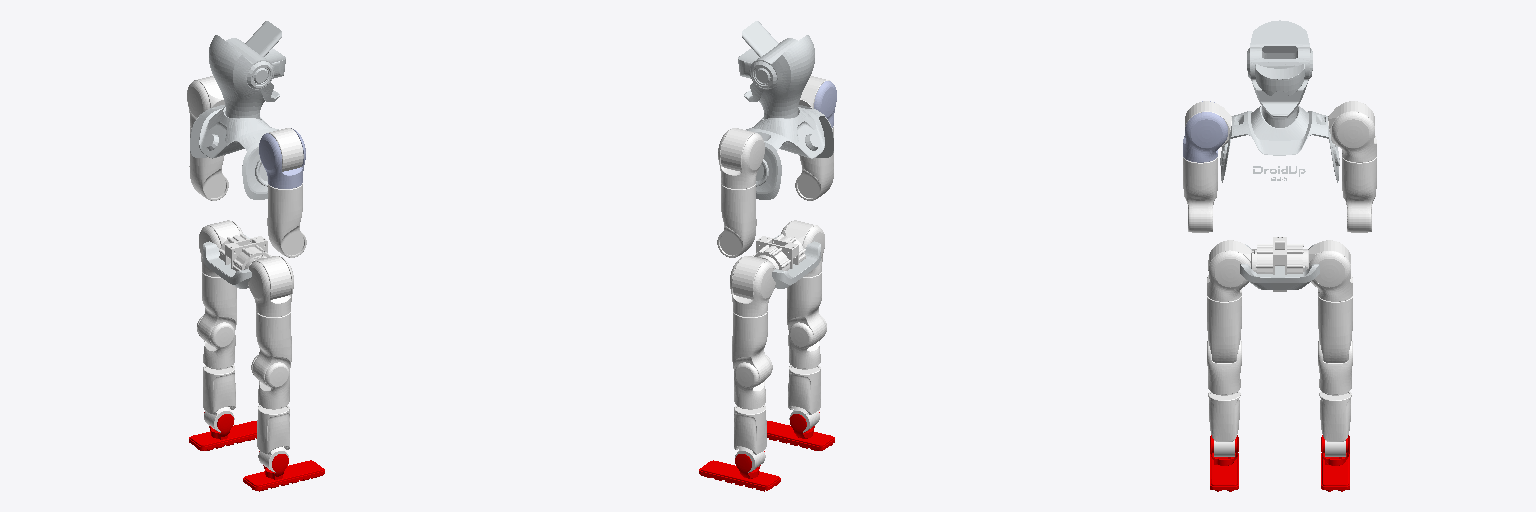
URDF robot description (E1):
<?xml version="1.0" encoding="utf-8"?>
<!-- This URDF was automatically created by SolidWorks to URDF Exporter! Originally created by [author] ([email redacted]) 
     Commit Version: 1.6.0-4-g7f85cfe  Build Version: 1.6.7995.38578
     For more information, please see http://wiki.ros.org/sw_urdf_exporter -->
<robot name="E1">
  <mujoco>
    <compiler meshdir="./meshes" discardvisual="false" />
  </mujoco>

<!--  <link name="world"></link>-->
<!--  <joint name="pelvis" type="floating">-->
<!--    <parent link="world" />-->
<!--    <child link="pelvis" />-->
<!--  </joint>-->

  <link name="pelvis">
    <inertial>
      <origin xyz="4.0687E-06 5.3734E-05 0.00063579" rpy="0 0 0" />
      <mass value="3" />
      <inertia ixx="0.00070325" ixy="-1.1729E-07" ixz="1.6967E-07" iyy="0.0013617" iyz="-2.0446E-07" izz="0.00070694" />
    </inertial>
    <visual>
      <origin xyz="0 0 0" rpy="0 0 0" />
      <geometry>
        <mesh filename="package://E1/meshes/pelvis.STL" />
      </geometry>
      <material name="">
        <color rgba="1 1 1 1" />
      </material>
    </visual>
    <collision>
      <origin xyz="0 0 0" rpy="0 0 0" />
      <geometry>
        <mesh filename="package://E1/meshes/pelvis.STL" />
      </geometry>
    </collision>
  </link>
  <link name="left_hip_pitch_link">
    <inertial>
      <origin xyz="1.3537E-07 0.054954 3.3871E-07" rpy="0 0 0" />
      <mass value="1.276" />
      <inertia ixx="0.00085075" ixy="2.3829E-09" ixz="1.9757E-09" iyy="0.00051249" iyz="5.524E-09" izz="0.00057568" />
    </inertial>
    <visual>
      <origin xyz="0 0 0" rpy="0 0 0" />
      <geometry>
        <mesh filename="package://E1/meshes/left_hip_pitch_link.STL" />
      </geometry>
      <material name="">
        <color rgba="1 1 1 1" />
      </material>
    </visual>
<!--    <collision>-->
<!--      <origin xyz="0 0 0" rpy="0 0 0" />-->
<!--      <geometry>-->
<!--        <mesh filename="package://E1/meshes/left_hip_pitch_link.STL" />-->
<!--      </geometry>-->
<!--    </collision>-->
  </link>
  <joint name="left_hip_pitch_joint" type="revolute">
    <origin xyz="0 0.064 0" rpy="0 0 0" />
    <parent link="pelvis" />
    <child link="left_hip_pitch_link" />
    <axis xyz="0 1 0" />ccfcf
    <limit lower="-2.09" upper="0.916" effort="60" velocity="180" />
  </joint>
  <link name="left_hip_roll_link">
    <inertial>
      <origin xyz="7.6686E-06 0.0079325 -0.026283" rpy="0 0 0" />
      <mass value="1.126" />
      <inertia ixx="0.0010653" ixy="-1.083E-09" ixz="-1.5613E-07" iyy="0.0011217" iyz="0.00013131" izz="0.00074295" />
    </inertial>
    <visual>
      <origin xyz="0 0 0" rpy="0 0 0" />
      <geometry>
        <mesh filename="package://E1/meshes/left_hip_roll_link.STL" />
      </geometry>
      <material name="">
        <color rgba="1 1 1 1" />
      </material>
    </visual>
<!--    <collision>-->
<!--      <origin xyz="0 0 0" rpy="0 0 0" />-->
<!--      <geometry>-->
<!--        <mesh filename="package://E1/meshes/left_hip_roll_link.STL" />-->
<!--      </geometry>-->
<!--    </collision>-->
  </link>
  <joint name="left_hip_roll_joint" type="revolute">
    <origin xyz="0 0.0585 0" rpy="0 0 0" />
    <parent link="left_hip_pitch_link" />
    <child link="left_hip_roll_link" />
    <axis xyz="1 0 0" />
    <limit lower="-0.5236" upper="1.57" effort="60" velocity="180" />
  </joint>
  <link name="left_hip_yaw_link">
    <inertial>
      <origin xyz="2.0219E-05 1.0806E-08 -0.085875" rpy="0 0 0" />
      <mass value="0.896" />
      <inertia ixx="0.0032938" ixy="3.8184E-09" ixz="-9.3406E-05" iyy="0.0033579" iyz="1.789E-09" izz="0.00087854" />
    </inertial>
    <visual>
      <origin xyz="0 0 0" rpy="0 0 0" />
      <geometry>
        <mesh filename="package://E1/meshes/left_hip_yaw_link.STL" />
      </geometry>
      <material name="">
        <color rgba="1 1 1 1" />
      </material>
    </visual>
    <collision>
      <origin xyz="0 0 0" rpy="0 0 0" />
      <geometry>
        <mesh filename="package://E1/meshes/left_hip_yaw_link.STL" />
      </geometry>
    </collision>
  </link>
  <joint name="left_hip_yaw_joint" type="revolute">
    <origin xyz="0 0.015 -0.0845" rpy="0 0 0" />
    <parent link="left_hip_roll_link" />
    <child link="left_hip_yaw_link" />
    <axis xyz="0 0 1" />
    <limit lower="-2.0944" upper="2.0944" effort="60" velocity="260" />
  </joint>
  <link name="left_knee_link">
    <inertial>
      <origin xyz="0.0099658 -3.7884E-07 -0.10091" rpy="0 0 0" />
      <mass value="0.8" />
      <inertia ixx="0.0011945" ixy="-1.4582E-08" ixz="2.5918E-05" iyy="0.0011524" iyz="8.9574E-10" izz="0.00077998" />
    </inertial>
    <visual>
      <origin xyz="0 0 0" rpy="0 0 0" />
      <geometry>
        <mesh filename="package://E1/meshes/left_knee_link.STL" />
      </geometry>
      <material name="">
        <color rgba="1 1 1 1" />
      </material>
    </visual>
<!--    <collision>-->
<!--      <origin xyz="0 0 0" rpy="0 0 0" />-->
<!--      <geometry>-->
<!--        <mesh filename="package://E1/meshes/left_knee_link.STL" />-->
<!--      </geometry>-->
<!--    </collision>-->
  </link>
  <joint name="left_knee_joint" type="revolute">
    <origin xyz="-0.01 0 -0.1605" rpy="0 0 0" />
    <parent link="left_hip_yaw_link" />
    <child link="left_knee_link" />
    <axis xyz="0 1 0" />
    <limit lower="0" upper="2.09" effort="60" velocity="260" />
  </joint>
  <link name="left_ankle_roll_link">
    <inertial>
      <origin xyz="4.1385E-08 1.9657E-08 -0.02984" rpy="0 0 0" />
      <mass value="0.5" />
      <inertia ixx="8.3199E-05" ixy="8.4014E-11" ixz="2.4895E-11" iyy="9.0659E-05" iyz="-2.9566E-10" izz="6.3387E-05" />
    </inertial>
    <visual>
      <origin xyz="0 0 0" rpy="0 0 0" />
      <geometry>
        <mesh filename="package://E1/meshes/left_ankle_roll_link.STL" />
      </geometry>
      <material name="">
        <color rgba="1 1 1 1" />
      </material>
    </visual>
    <collision>
      <origin xyz="0 0 0" rpy="0 0 0" />
      <geometry>
        <mesh filename="package://E1/meshes/left_ankle_roll_link.STL" />
      </geometry>
    </collision>
  </link>
  <joint name="left_ankle_roll_joint" type="revolute">
    <origin xyz="0.01 0 -0.21" rpy="0 0 0" />
    <parent link="left_knee_link" />
    <child link="left_ankle_roll_link" />
    <axis xyz="1 0 0" />
    <limit lower="-0.524" upper="0.524" effort="60" velocity="260" />
  </joint>
  <link name="left_ankle_pitch_link">
    <inertial>
      <origin xyz="0.021373 -0.00053753 -0.045899" rpy="0 0 0" />
      <mass value="0.8" />
      <inertia ixx="0.00016019" ixy="-4.8222E-06" ixz="5.8316E-06" iyy="0.00072674" iyz="5.8502E-07" izz="0.00083318" />
    </inertial>
    <visual>
      <origin xyz="0 0 0" rpy="0 0 0" />
      <geometry>
        <mesh filename="package://E1/meshes/left_ankle_pitch_link.STL" />
      </geometry>
      <material name="">
        <color rgba="1 0 0 1" />
      </material>
    </visual>
    <collision>
      <origin xyz="0 0 0" rpy="0 0 0" />
      <geometry>
        <mesh filename="package://E1/meshes/left_ankle_pitch_link.STL" />
      </geometry>
    </collision>
  </link>
  <joint name="left_ankle_pitch_joint" type="revolute">
    <origin xyz="0 0 -0.035" rpy="0 0 0" />
    <parent link="left_ankle_roll_link" />
    <child link="left_ankle_pitch_link" />
    <axis xyz="0 1 0" />
    <limit lower="-1.571" upper="1.571" effort="60" velocity="260" />
  </joint>
  <link name="right_hip_pitch_link">
    <inertial>
      <origin xyz="1.3544E-07 -0.054954 3.3868E-07" rpy="0 0 0" />
      <mass value="1.276" />
      <inertia ixx="0.00085075" ixy="-2.3833E-09" ixz="3.3035E-09" iyy="0.00051249" iyz="-6.3881E-09" izz="0.00057568" />
    </inertial>
    <visual>
      <origin xyz="0 0 0" rpy="0 0 0" />
      <geometry>
        <mesh filename="package://E1/meshes/right_hip_pitch_link.STL" />
      </geometry>
      <material name="">
        <color rgba="1 1 1 1" />
      </material>
    </visual>
<!--    <collision>-->
<!--      <origin xyz="0 0 0" rpy="0 0 0" />-->
<!--      <geometry>-->
<!--        <mesh filename="package://E1/meshes/right_hip_pitch_link.STL" />-->
<!--      </geometry>-->
<!--    </collision>-->
  </link>
  <joint name="right_hip_pitch_joint" type="revolute">
    <origin xyz="0 -0.064 0" rpy="0 0 0" />
    <parent link="pelvis" />
    <child link="right_hip_pitch_link" />
    <axis xyz="0 1 0" />
    <limit lower="-2.09" upper="0.916" effort="60" velocity="180" />
  </joint>
  <link name="right_hip_roll_link">
    <inertial>
      <origin xyz="7.1644E-06 -0.0079301 -0.026283" rpy="0 0 0" />
      <mass value="1.126" />
      <inertia ixx="0.0010653" ixy="-7.5606E-08" ixz="-1.3311E-07" iyy="0.0011216" iyz="-0.00013147" izz="0.00074306" />
    </inertial>
    <visual>
      <origin xyz="0 0 0" rpy="0 0 0" />
      <geometry>
        <mesh filename="package://E1/meshes/right_hip_roll_link.STL" />
      </geometry>
      <material name="">
        <color rgba="1 1 1 1" />
      </material>
    </visual>
<!--    <collision>-->
<!--      <origin xyz="0 0 0" rpy="0 0 0" />-->
<!--      <geometry>-->
<!--        <mesh filename="package://E1/meshes/right_hip_roll_link.STL" />-->
<!--      </geometry>-->
<!--    </collision>-->
  </link>
  <joint name="right_hip_roll_joint" type="revolute">
    <origin xyz="0 -0.0585 0" rpy="0 0 0" />
    <parent link="right_hip_pitch_link" />
    <child link="right_hip_roll_link" />
    <axis xyz="1 0 0" />
    <limit lower="-1.57" upper="0.5236" effort="60" velocity="180" />
  </joint>
  <link name="right_hip_yaw_link">
    <inertial>
      <origin xyz="2.0226E-05 -9.8286E-11 -0.085875" rpy="0 0 0" />
      <mass value="0.896" />
      <inertia ixx="0.0032938" ixy="3.6551E-09" ixz="-9.3406E-05" iyy="0.0033579" iyz="1.3409E-09" izz="0.00087854" />
    </inertial>
    <visual>
      <origin xyz="0 0 0" rpy="0 0 0" />
      <geometry>
        <mesh filename="package://E1/meshes/right_hip_yaw_link.STL" />
      </geometry>
      <material name="">
        <color rgba="1 1 1 1" />
      </material>
    </visual>
    <collision>
      <origin xyz="0 0 0" rpy="0 0 0" />
      <geometry>
        <mesh filename="package://E1/meshes/right_hip_yaw_link.STL" />
      </geometry>
    </collision>
  </link>
  <joint name="right_hip_yaw_joint" type="revolute">
    <origin xyz="0 -0.015 -0.0845" rpy="0 0 0" />
    <parent link="right_hip_roll_link" />
    <child link="right_hip_yaw_link" />
    <axis xyz="0 0 1" />
    <limit lower="-2.0944" upper="2.0944" effort="60" velocity="260" />
  </joint>
  <link name="right_knee_link">
    <inertial>
      <origin xyz="0.009966 3.3622E-07 -0.10091" rpy="0 0 0" />
      <mass value="0.8" />
      <inertia ixx="0.0011944" ixy="-1.3149E-08" ixz="2.5911E-05" iyy="0.0011524" iyz="-1.4748E-08" izz="0.00077995" />
    </inertial>
    <visual>
      <origin xyz="0 0 0" rpy="0 0 0" />
      <geometry>
        <mesh filename="package://E1/meshes/right_knee_link.STL" />
      </geometry>
      <material name="">
        <color rgba="1 1 1 1" />
      </material>
    </visual>
<!--    <collision>-->
<!--      <origin xyz="0 0 0" rpy="0 0 0" />-->
<!--      <geometry>-->
<!--        <mesh filename="package://E1/meshes/right_knee_link.STL" />-->
<!--      </geometry>-->
<!--    </collision>-->
  </link>
  <joint name="right_knee_joint" type="revolute">
    <origin xyz="-0.01 0 -0.1605" rpy="0 0 0" />
    <parent link="right_hip_yaw_link" />
    <child link="right_knee_link" />
    <axis xyz="0 1 0" />
    <limit lower="0" upper="2.09" effort="60" velocity="260" />
  </joint>
  <link name="right_ankle_roll_link">
    <inertial>
      <origin xyz="-2.3106E-08 -2.837E-09 -0.02984" rpy="0 0 0" />
      <mass value="0.5" />
      <inertia ixx="8.3199E-05" ixy="8.6658E-11" ixz="-7.9748E-11" iyy="9.0659E-05" iyz="2.4101E-10" izz="6.3387E-05" />
    </inertial>
    <visual>
      <origin xyz="0 0 0" rpy="0 0 0" />
      <geometry>
        <mesh filename="package://E1/meshes/right_ankle_roll_link.STL" />
      </geometry>
      <material name="">
        <color rgba="1 1 1 1" />
      </material>
    </visual>
    <collision>
      <origin xyz="0 0 0" rpy="0 0 0" />
      <geometry>
        <mesh filename="package://E1/meshes/right_ankle_roll_link.STL" />
      </geometry>
    </collision>
  </link>
  <joint name="right_ankle_roll_joint" type="revolute">
    <origin xyz="0.01 0 -0.21" rpy="0 0 0" />
    <parent link="right_knee_link" />
    <child link="right_ankle_roll_link" />
    <axis xyz="1 0 0" />
    <limit lower="-0.524" upper="0.524" effort="60" velocity="260" />
  </joint>
  <link name="right_ankle_pitch_link">
    <inertial>
      <origin xyz="0.021373 -0.00053751 -0.0459" rpy="0 0 0" />
      <mass value="0.8" />
      <inertia ixx="0.00016018" ixy="-4.8224E-06" ixz="5.8317E-06" iyy="0.00072674" iyz="5.8488E-07" izz="0.00083318" />
    </inertial>
    <visual>
      <origin xyz="0 0 0" rpy="0 0 0" />
      <geometry>
        <mesh filename="package://E1/meshes/right_ankle_pitch_link.STL" />
      </geometry>
      <material name="">
        <color rgba="1 0 0 1" />
      </material>
    </visual>
    <collision>
      <origin xyz="0 0 0" rpy="0 0 0" />
      <geometry>
        <mesh filename="package://E1/meshes/right_ankle_pitch_link.STL" />
      </geometry>
    </collision>
  </link>
  <joint name="right_ankle_pitch_joint" type="revolute">
    <origin xyz="0 0 -0.035" rpy="0 0 0" />
    <parent link="right_ankle_roll_link" />
    <child link="right_ankle_pitch_link" />
    <axis xyz="0 1 0" />
    <limit lower="-1.571" upper="1.571" effort="60" velocity="260" />
  </joint>
  <link name="torso_link">
    <inertial>
      <origin xyz="0.00062403 -9.6558E-05 0.23108" rpy="0 0 0" />
      <mass value="6" />
      <inertia ixx="0.025155" ixy="-5.8296E-06" ixz="-8.4229E-06" iyy="0.016563" iyz="-1.7325E-05" izz="0.012781" />
    </inertial>
    <visual>
      <origin xyz="0 0 0" rpy="0 0 0" />
      <geometry>
        <mesh filename="package://E1/meshes/torso_link.STL" />
      </geometry>
      <material name="">
        <color rgba="0.89804 0.91765 0.92941 1" />
      </material>
    </visual>
    <collision>
      <origin xyz="0 0 0" rpy="0 0 0" />
      <geometry>
        <mesh filename="package://E1/meshes/torso_link.STL" />
      </geometry>
    </collision>
  </link>
  <joint name="torso_joint" type="fixed">
    <origin xyz="0 0 0" rpy="0 0 0" />
    <parent link="pelvis" />
    <child link="torso_link" />
    <axis xyz="0 0 0" />
  </joint>
  <link name="left_shoulder_pitch_link">
    <inertial>
      <origin xyz="-1.3389E-07 0.04243 3.4635E-07" rpy="0 0 0" />
      <mass value="1.276" />
      <inertia ixx="0.00085075" ixy="-2.3623E-09" ixz="-3.2803E-09" iyy="0.00051249" iyz="6.55E-09" izz="0.00057568" />
    </inertial>
    <visual>
      <origin xyz="0 0 0" rpy="0 0 0" />
      <geometry>
        <mesh filename="package://E1/meshes/left_shoulder_pitch_link.STL" />
      </geometry>
      <material name="">
        <color rgba="1 1 1 1" />
      </material>
    </visual>
    <collision>
      <origin xyz="0 0 0" rpy="0 0 0" />
      <geometry>
        <mesh filename="package://E1/meshes/left_shoulder_pitch_link.STL" />
      </geometry>
    </collision>
  </link>
  <joint name="left_shoulder_pitch_joint" type="fixed">
    <origin xyz="0 0.13613 0.37182" rpy="0.17453 0 0" />
    <parent link="torso_link" />
    <child link="left_shoulder_pitch_link" />
    <axis xyz="0 1 0" />
    <limit lower="-4.058" upper="0.916" effort="60" velocity="180" />
  </joint>
  <link name="left_shoulder_roll_link">
    <inertial>
      <origin xyz="-7.1644E-06 0.0079301 -0.026283" rpy="0 0 0" />
      <mass value="1.126" />
      <inertia ixx="0.0010653" ixy="-7.5606E-08" ixz="1.3311E-07" iyy="0.0011216" iyz="0.00013147" izz="0.00074306" />
    </inertial>
    <visual>
      <origin xyz="0 0 0" rpy="0 0 0" />
      <geometry>
        <mesh filename="package://E1/meshes/left_shoulder_roll_link.STL" />
      </geometry>
      <material name="">
        <color rgba="1 1 1 1" />
      </material>
    </visual>
    <collision>
      <origin xyz="0 0 0" rpy="0 0 0" />
      <geometry>
        <mesh filename="package://E1/meshes/left_shoulder_roll_link.STL" />
      </geometry>
    </collision>
  </link>
  <joint name="left_shoulder_roll_joint" type="fixed">
    <origin xyz="0 0.045976 0" rpy="-0.17453 0 0" />
    <parent link="left_shoulder_pitch_link" />
    <child link="left_shoulder_roll_link" />
    <axis xyz="1 0 0" />
    <limit lower="0" upper="3.1416" effort="60" velocity="180" />
  </joint>
  <link name="left_shoulder_yaw_link">
    <inertial>
      <origin xyz="-2.0226E-05 9.8286E-11 -0.085875" rpy="0 0 0" />
      <mass value="0.896" />
      <inertia ixx="0.0032938" ixy="3.6551E-09" ixz="9.3406E-05" iyy="0.0033579" iyz="-1.3409E-09" izz="0.00087854" />
    </inertial>
    <visual>
      <origin xyz="0 0 0" rpy="0 0 0" />
      <geometry>
        <mesh filename="package://E1/meshes/left_shoulder_yaw_link.STL" />
      </geometry>
      <material name="">
        <color rgba="1 1 1 1" />
      </material>
    </visual>
    <collision>
      <origin xyz="0 0 0" rpy="0 0 0" />
      <geometry>
        <mesh filename="package://E1/meshes/left_shoulder_yaw_link.STL" />
      </geometry>
    </collision>
  </link>
  <joint name="left_shoulder_yaw_joint" type="fixed">
    <origin xyz="0 0.015 -0.0845" rpy="0 0 0" />
    <parent link="left_shoulder_roll_link" />
    <child link="left_shoulder_yaw_link" />
    <axis xyz="0 0 1" />
    <limit lower="-2.0944" upper="2.0944" effort="5" velocity="260" />
  </joint>
  <!-- <link name="left_elbow_link">
    <inertial>
      <origin xyz="0.043916 -7.1829E-07 -0.0099307" rpy="0 0 0" />
      <mass value="0.576" />
      <inertia ixx="0.00040084" ixy="-1.4209E-08" ixz="2.5911E-05" iyy="0.000592" iyz="-1.3604E-08" izz="0.00066294" />
    </inertial>
    <visual>
      <origin xyz="0 0 0" rpy="0 0 0" />
      <geometry>
        <mesh filename="package://E1/meshes/left_elbow_link.STL" />
      </geometry>
      <material name="">
        <color rgba="1 1 1 1" />
      </material>
    </visual>
    <collision>
      <origin xyz="0 0 0" rpy="0 0 0" />
      <geometry>
        <mesh filename="package://E1/meshes/left_elbow_link.STL" />
      </geometry>
    </collision>
  </link>
  <joint name="left_elbow_joint" type="revolute">
    <origin xyz="0.01 0 -0.1605" rpy="0 0 0" />
    <parent link="left_shoulder_yaw_link" />
    <child link="left_elbow_link" />
    <axis xyz="0 1 0" />
    <limit lower="-1.05" upper="2.09" effort="5" velocity="260" />
  </joint> -->
  <link name="right_shoulder_pitch_link">
    <inertial>
      <origin xyz="-1.349E-07 -0.042411 3.364E-07" rpy="0 0 0" />
      <mass value="1.276" />
      <inertia ixx="0.00085075" ixy="2.3766E-09" ixz="-1.9893E-09" iyy="0.00051249" iyz="-5.4806E-09" izz="0.00057568" />
    </inertial>
    <visual>
      <origin xyz="0 0 0" rpy="0 0 0" />
      <geometry>
        <mesh filename="package://E1/meshes/right_shoulder_pitch_link.STL" />
      </geometry>
      <material name="">
        <color rgba="1 1 1 1" />
      </material>
    </visual>
    <collision>
      <origin xyz="0 0 0" rpy="0 0 0" />
      <geometry>
        <mesh filename="package://E1/meshes/right_shoulder_pitch_link.STL" />
      </geometry>
    </collision>
  </link>
  <joint name="right_shoulder_pitch_joint" type="fixed">
    <origin xyz="0 -0.13615 0.37182" rpy="-0.17453 0 0" />
    <parent link="torso_link" />
    <child link="right_shoulder_pitch_link" />
    <axis xyz="0 1 0" />
    <limit lower="-4.058" upper="0.916" effort="60" velocity="180" />
  </joint>
  <link name="right_shoulder_roll_link">
    <inertial>
      <origin xyz="-7.6681E-06 -0.0079325 -0.026283" rpy="0 0 0" />
      <mass value="1.126" />
      <inertia ixx="0.0010653" ixy="-1.0914E-09" ixz="1.5613E-07" iyy="0.0011217" iyz="-0.00013131" izz="0.00074295" />
    </inertial>
    <visual>
      <origin xyz="0 0 0" rpy="0 0 0" />
      <geometry>
        <mesh filename="package://E1/meshes/right_shoulder_roll_link.STL" />
      </geometry>
      <material name="">
        <color rgba="0.79216 0.81961 0.93333 1" />
      </material>
    </visual>
    <collision>
      <origin xyz="0 0 0" rpy="0 0 0" />
      <geometry>
        <mesh filename="package://E1/meshes/right_shoulder_roll_link.STL" />
      </geometry>
    </collision>
  </link>
  <joint name="right_shoulder_roll_joint" type="fixed">
    <origin xyz="0 -0.045957 0" rpy="0.17453 0 0" />
    <parent link="right_shoulder_pitch_link" />
    <child link="right_shoulder_roll_link" />
    <axis xyz="1 0 0" />
    <limit lower="-3.1416" upper="0" effort="60" velocity="180" />
  </joint>
  <link name="right_shoulder_yaw_link">
    <inertial>
      <origin xyz="-2.0219E-05 -1.0806E-08 -0.085875" rpy="0 0 0" />
      <mass value="0.896" />
      <inertia ixx="0.0032938" ixy="3.8184E-09" ixz="9.3406E-05" iyy="0.0033579" iyz="-1.789E-09" izz="0.00087854" />
    </inertial>
    <visual>
      <origin xyz="0 0 0" rpy="0 0 0" />
      <geometry>
        <mesh filename="package://E1/meshes/right_shoulder_yaw_link.STL" />
      </geometry>
      <material name="">
        <color rgba="1 1 1 1" />
      </material>
    </visual>
    <collision>
      <origin xyz="0 0 0" rpy="0 0 0" />
      <geometry>
        <mesh filename="package://E1/meshes/right_shoulder_yaw_link.STL" />
      </geometry>
    </collision>
  </link>
  <joint name="right_shoulder_yaw_joint" type="fixed">
    <origin xyz="0 -0.015 -0.0845" rpy="0 0 0" />
    <parent link="right_shoulder_roll_link" />
    <child link="right_shoulder_yaw_link" />
    <axis xyz="0 0 1" />
    <limit lower="-2.0944" upper="2.0944" effort="5" velocity="260" />
  </joint>
  <!-- <link name="right_elbow_link">
    <inertial>
      <origin xyz="0.043914 7.7067E-07 -0.0099301" rpy="0 0 0" />
      <mass value="0.576" />
      <inertia ixx="0.00040088" ixy="1.0262E-09" ixz="2.5917E-05" iyy="0.00059201" iyz="-1.567E-08" izz="0.00066299" />
    </inertial>
    <visual>
      <origin xyz="0 0 0" rpy="0 0 0" />
      <geometry>
        <mesh filename="package://E1/meshes/right_elbow_link.STL" />
      </geometry>
      <material name="">
        <color rgba="1 1 1 1" />
      </material>
    </visual>
    <collision>
      <origin xyz="0 0 0" rpy="0 0 0" />
      <geometry>
        <mesh filename="package://E1/meshes/right_elbow_link.STL" />
      </geometry>
    </collision>
  </link>
  <joint name="right_elbow_joint" type="revolute">
    <origin xyz="0.01 0 -0.1605" rpy="0 0 0" />
    <parent link="right_shoulder_yaw_link" />
    <child link="right_elbow_link" />
    <axis xyz="0 1 0" />
    <limit lower="-1.05" upper="2.09" effort="5" velocity="260" />
  </joint> -->
</robot>

--- What the picture shows (computed from the rendered views, not written in the file) ---
3 views of the same robot in one strip: view 1: azimuth 30°, elevation 25°; view 2: azimuth 150°, elevation 25°; view 3: azimuth 270°, elevation 25° (orthographic).
Robot: E1 — 20 links, 19 joints (12 revolute, 7 fixed); root link pelvis; default pose: all joints at 0.
Visible links, largest first — view 1: torso_link, right_knee_link, left_knee_link, right_shoulder_yaw_link, right_hip_yaw_link, left_hip_yaw_link, right_ankle_pitch_link, right_shoulder_roll_link, left_ankle_pitch_link, left_shoulder_yaw_link, right_hip_roll_link, pelvis (+3 smaller); view 2: torso_link, left_knee_link, right_knee_link, left_shoulder_yaw_link, left_hip_yaw_link, right_hip_yaw_link, left_ankle_pitch_link, left_shoulder_roll_link, right_ankle_pitch_link, right_shoulder_yaw_link, left_hip_roll_link, pelvis (+3 smaller); view 3: torso_link, left_knee_link, right_knee_link, left_shoulder_yaw_link, right_shoulder_yaw_link, left_hip_yaw_link, right_hip_yaw_link, left_shoulder_roll_link, right_shoulder_roll_link, pelvis, left_hip_roll_link, right_hip_roll_link (+4 smaller).
Link boxes in pixels (left/top/right/bottom): torso_link: left=190, top=21, right=285, bottom=288; right_knee_link: left=251, top=355, right=289, bottom=454; left_knee_link: left=197, top=315, right=235, bottom=414; right_shoulder_yaw_link: left=267, top=183, right=306, bottom=257; right_hip_yaw_link: left=252, top=311, right=291, bottom=386; left_hip_yaw_link: left=198, top=272, right=236, bottom=346; right_ankle_pitch_link: left=243, top=451, right=324, bottom=491; right_shoulder_roll_link: left=259, top=128, right=305, bottom=188; left_ankle_pitch_link: left=189, top=412, right=256, bottom=450; left_shoulder_yaw_link: left=189, top=126, right=228, bottom=200; right_hip_roll_link: left=248, top=256, right=293, bottom=316; pelvis: left=219, top=234, right=271, bottom=271; torso_link: left=738, top=21, right=833, bottom=288; left_knee_link: left=734, top=355, right=772, bottom=454; right_knee_link: left=788, top=315, right=826, bottom=414; left_shoulder_yaw_link: left=717, top=183, right=756, bottom=257; left_hip_yaw_link: left=732, top=311, right=771, bottom=386; right_hip_yaw_link: left=787, top=272, right=825, bottom=346; left_ankle_pitch_link: left=699, top=451, right=780, bottom=491; left_shoulder_roll_link: left=718, top=128, right=764, bottom=188; right_ankle_pitch_link: left=767, top=412, right=834, bottom=450; right_shoulder_yaw_link: left=795, top=126, right=833, bottom=200; left_hip_roll_link: left=730, top=256, right=775, bottom=316; pelvis: left=752, top=234, right=805, bottom=270; torso_link: left=1220, top=20, right=1339, bottom=289; left_knee_link: left=1318, top=340, right=1352, bottom=441; right_knee_link: left=1207, top=340, right=1241, bottom=441; left_shoulder_yaw_link: left=1342, top=157, right=1376, bottom=232; right_shoulder_yaw_link: left=1183, top=157, right=1217, bottom=232; left_hip_yaw_link: left=1318, top=296, right=1352, bottom=362; right_hip_yaw_link: left=1207, top=296, right=1241, bottom=362; left_shoulder_roll_link: left=1332, top=101, right=1376, bottom=162; right_shoulder_roll_link: left=1183, top=101, right=1227, bottom=162; pelvis: left=1251, top=237, right=1308, bottom=291; left_hip_roll_link: left=1309, top=240, right=1352, bottom=301; right_hip_roll_link: left=1207, top=240, right=1250, bottom=301.
Size in the robot's own frame: 0.2532 by 0.4808 by 1.19 metres.
20 mesh visuals loaded from 20 distinct referenced files (20 binary STL).